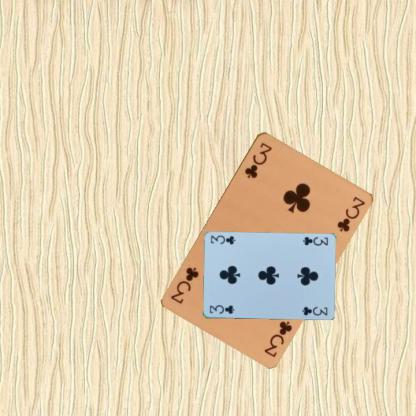3c: (261, 318, 294, 359), (242, 139, 274, 180), (300, 234, 329, 247), (207, 303, 235, 315)
